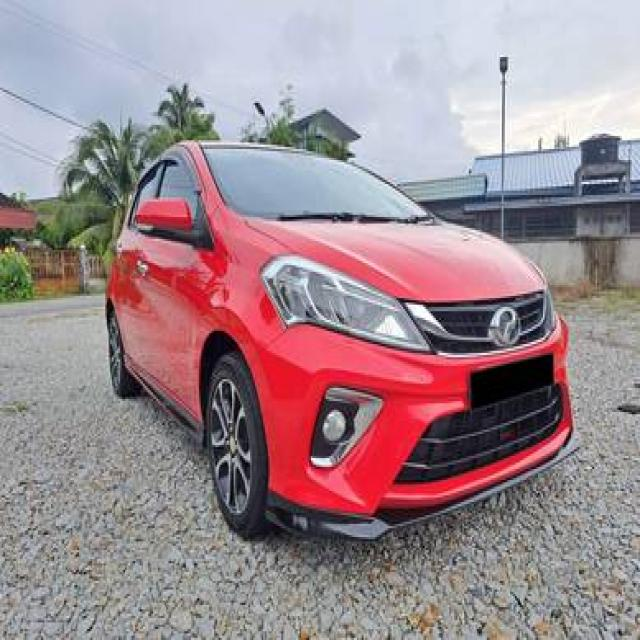PeroduaMyvi: (102, 136, 576, 541)
